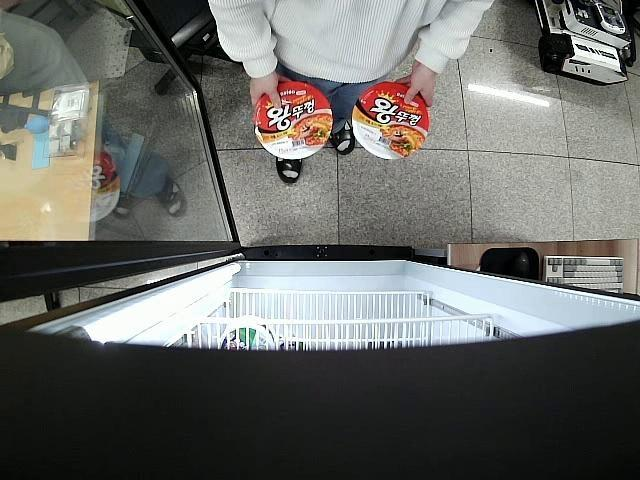10_wangTtukkeong: (254, 82, 334, 158), (353, 82, 430, 159)
